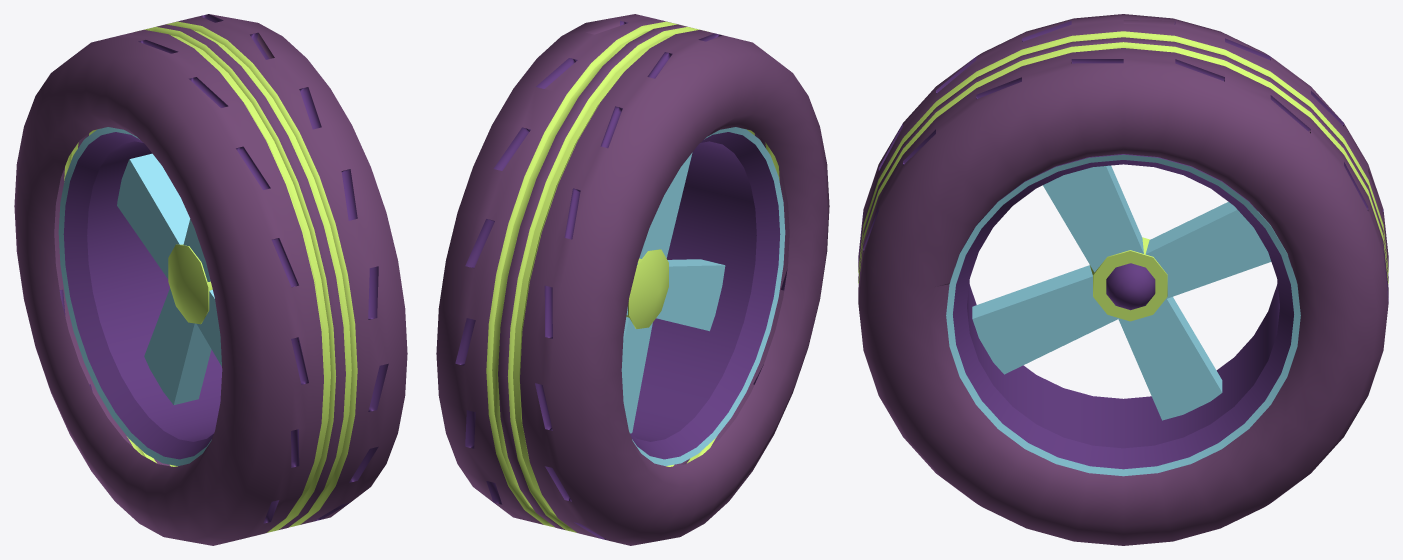
Rendered from colorwheel3.fbx.
3 views of the same model, side by side, from view 1: azimuth 30°, elevation 25°; view 2: azimuth 150°, elevation 25°; view 3: azimuth 270°, elevation 25° (orthographic).
Visible parts, largest first — view 1: polySurface39; view 2: polySurface39; view 3: polySurface39.
Boxes of the visible parts, x1,y1,x2,y2 form: polySurface39: [14, 14, 407, 545]; polySurface39: [436, 14, 829, 545]; polySurface39: [858, 14, 1388, 545].
Bounding box in the file's own units: 0.4593 × 1.23 × 1.23.
1 material, 1 textured.
